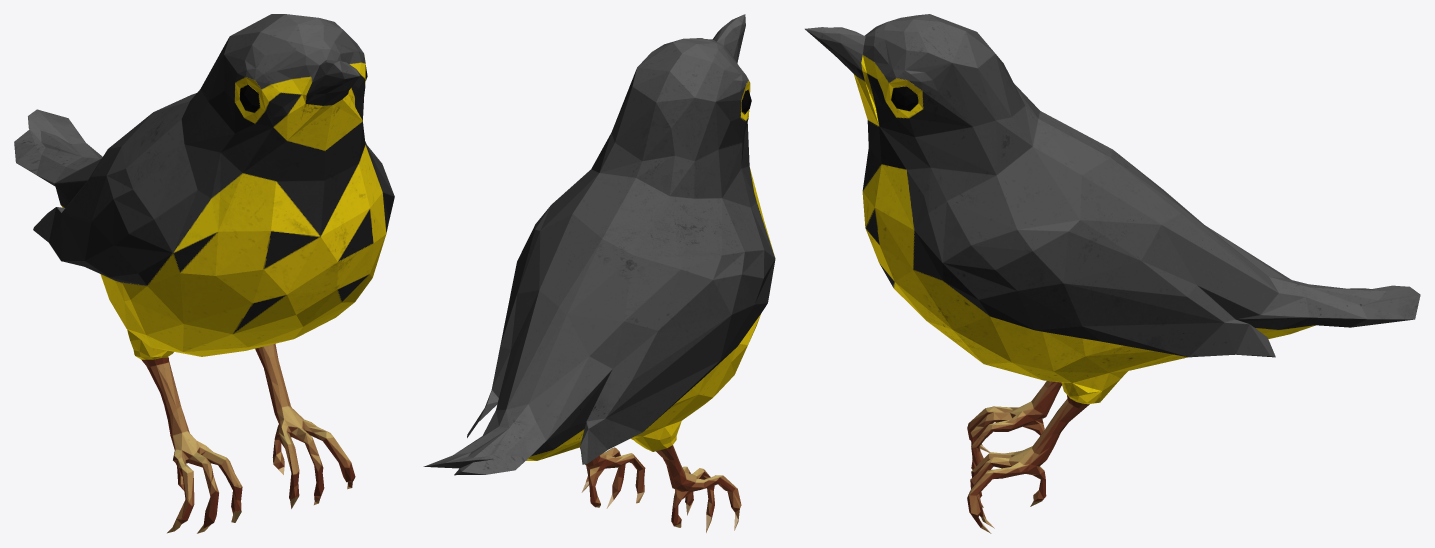
Rendered from bot.glb.
The picture shows the model from 3 angles, left to right: view 1: azimuth 30°, elevation 25°; view 2: azimuth 150°, elevation 25°; view 3: azimuth 270°, elevation 25°; orthographic projection. The views are drawn at different scales.
Parts seen in each view (by area): view 1: canada_warbler.1; view 2: canada_warbler.1; view 3: canada_warbler.1.
Part boxes in pixels (x1,y1,x2,y2): canada_warbler.1: (14,14,394,533); canada_warbler.1: (423,14,775,532); canada_warbler.1: (805,14,1420,533).
Bounding box in the file's own units: 0.00415 × 0.00816 × 0.00944.
1 material, 1 textured.
